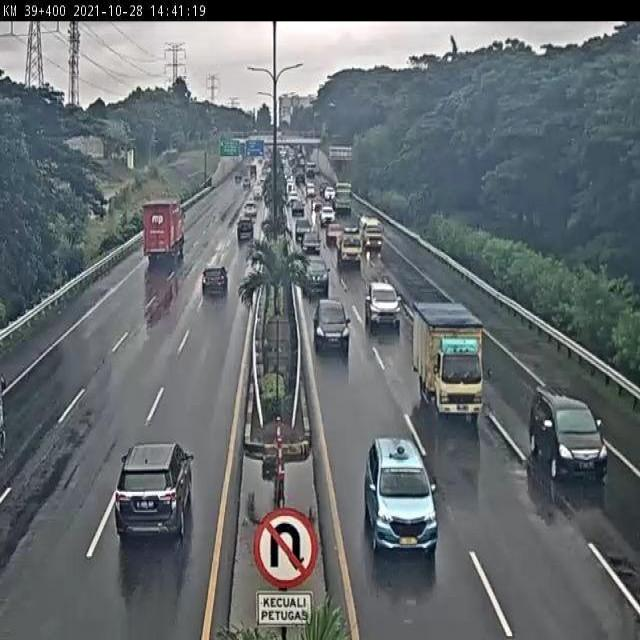car: (365, 433, 440, 556), (111, 442, 193, 542), (531, 386, 608, 482), (313, 296, 351, 355), (365, 280, 402, 328), (301, 253, 329, 292), (200, 265, 228, 299)
mid truck: (143, 200, 186, 261)
truck-m-: (411, 298, 485, 418)
